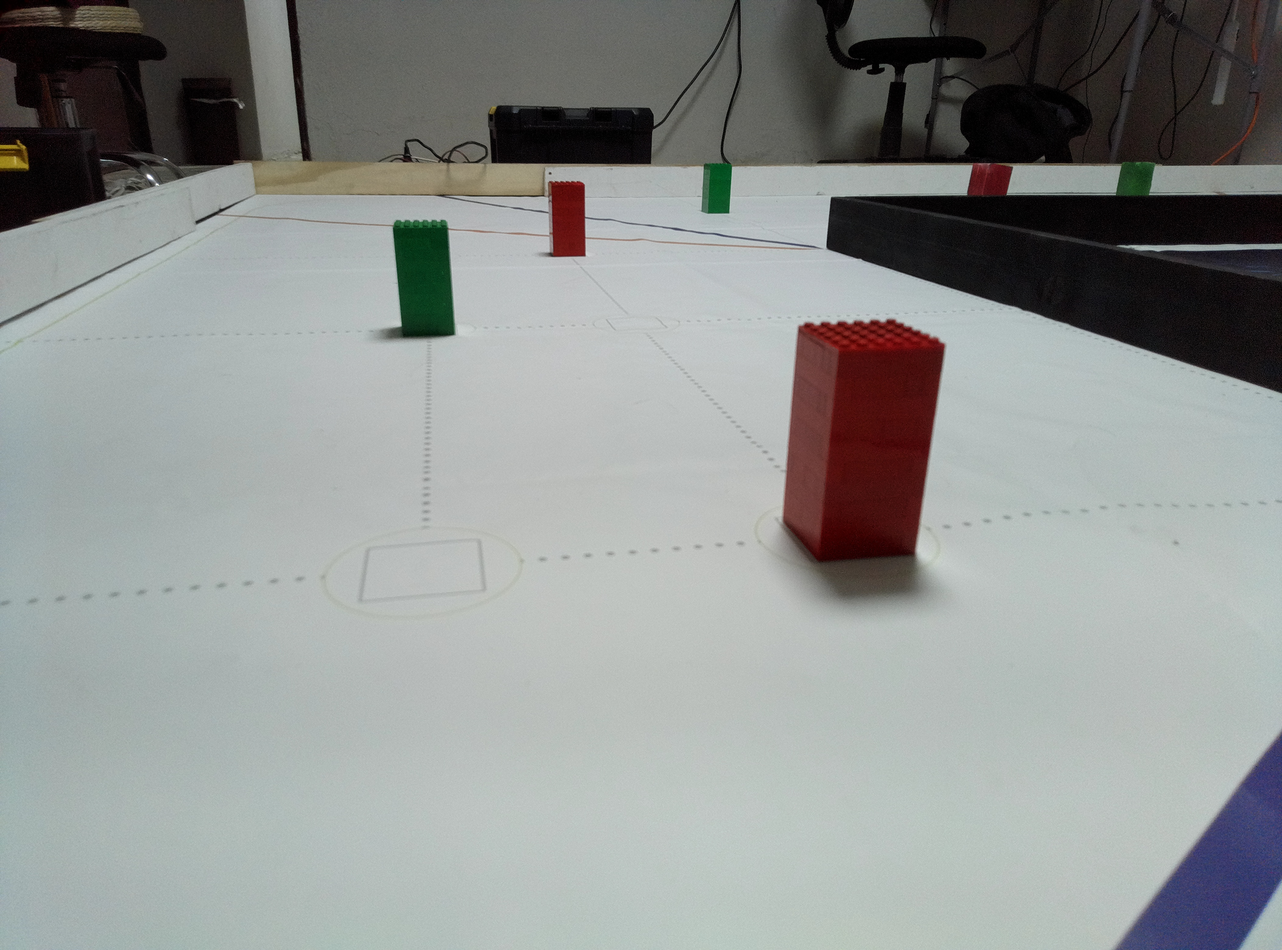greenbox: (392, 219, 457, 339), (700, 162, 734, 214), (1115, 162, 1156, 196)
redbox: (778, 320, 949, 565), (547, 180, 586, 257), (966, 163, 1014, 196)
